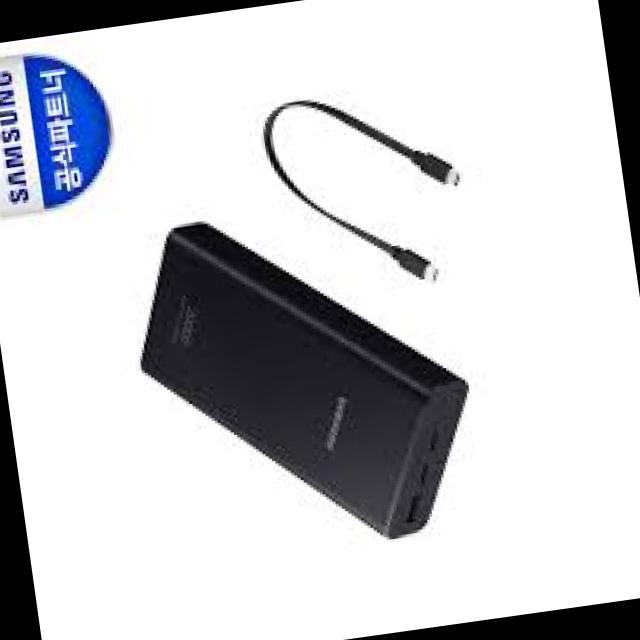power_bank: (120, 181, 490, 577)
